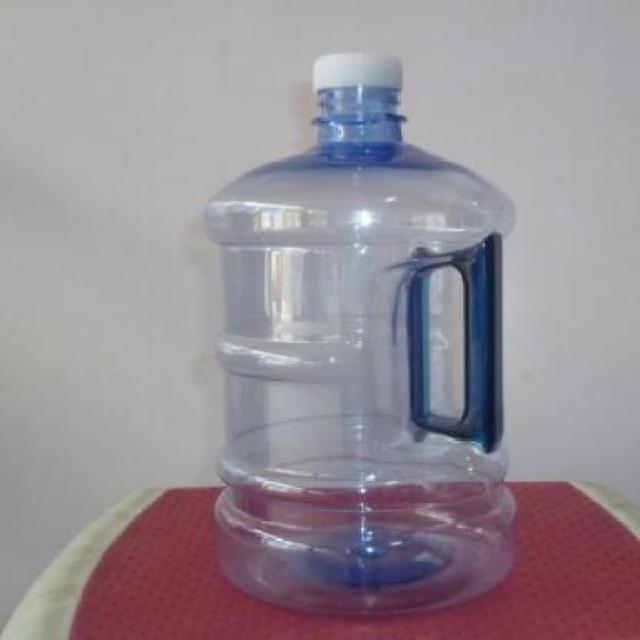coolerbottle: (196, 46, 530, 622)
